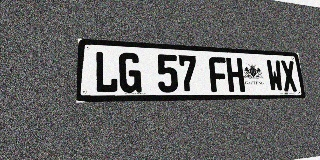5: (157, 54, 179, 93)
7: (177, 55, 198, 92)
F: (208, 57, 228, 92)
G: (119, 52, 142, 93)
H: (226, 57, 245, 92)
L: (94, 51, 118, 93)
W: (266, 59, 284, 92)
X: (280, 60, 298, 92)
